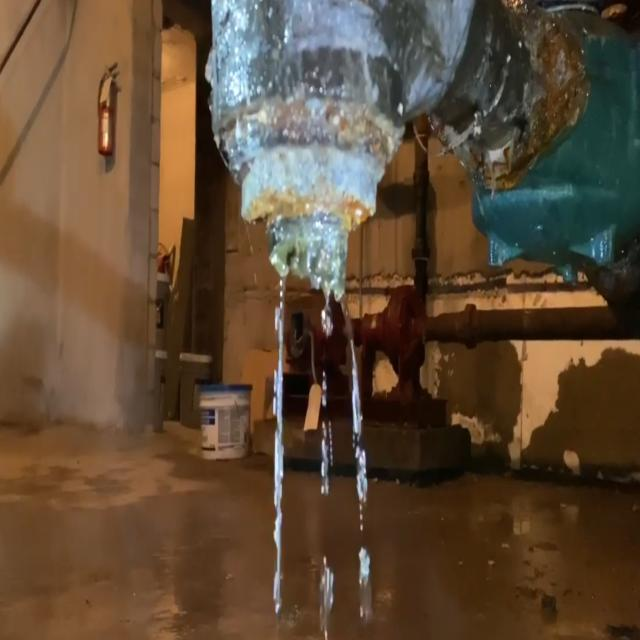leak: (341, 296, 368, 531), (274, 278, 284, 613), (359, 547, 372, 622)
